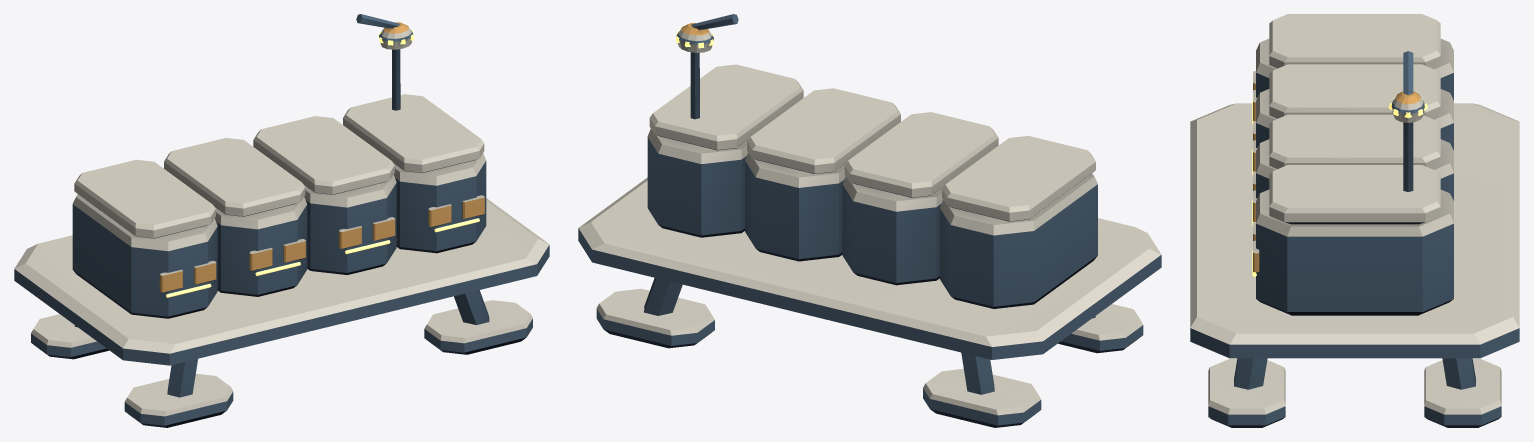
The model's file is frost-traverser.glb.
The picture shows the model from 3 angles, left to right: view 1: azimuth 30°, elevation 25°; view 2: azimuth 150°, elevation 25°; view 3: azimuth 270°, elevation 25°; orthographic projection. The views are drawn at different scales.
Visible parts, largest first — view 1: frost-traverser; view 2: frost-traverser; view 3: frost-traverser.
Boxes of the visible parts, box(x1,y1,x2,y2) form: frost-traverser: box(14, 14, 549, 427); frost-traverser: box(578, 14, 1161, 427); frost-traverser: box(1190, 14, 1519, 427).
Size of the model in its own units: 8.2 by 5.21 by 4.76.
